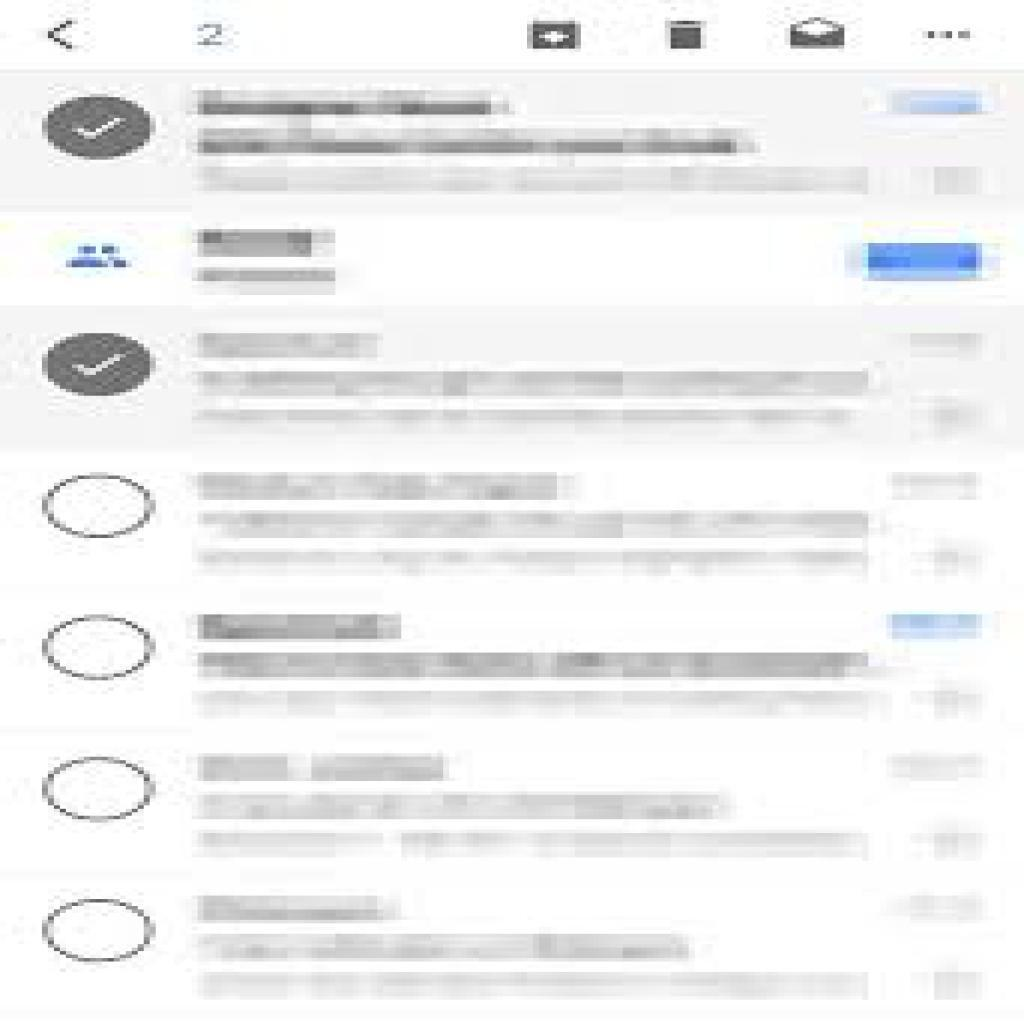icon: (64, 237, 147, 277), (524, 17, 589, 59), (788, 12, 847, 54), (915, 21, 980, 49), (665, 17, 711, 56), (42, 17, 80, 53)
radio: (41, 91, 159, 165), (41, 755, 160, 827), (42, 472, 160, 544), (42, 332, 159, 403), (42, 613, 159, 682), (43, 897, 156, 966)
